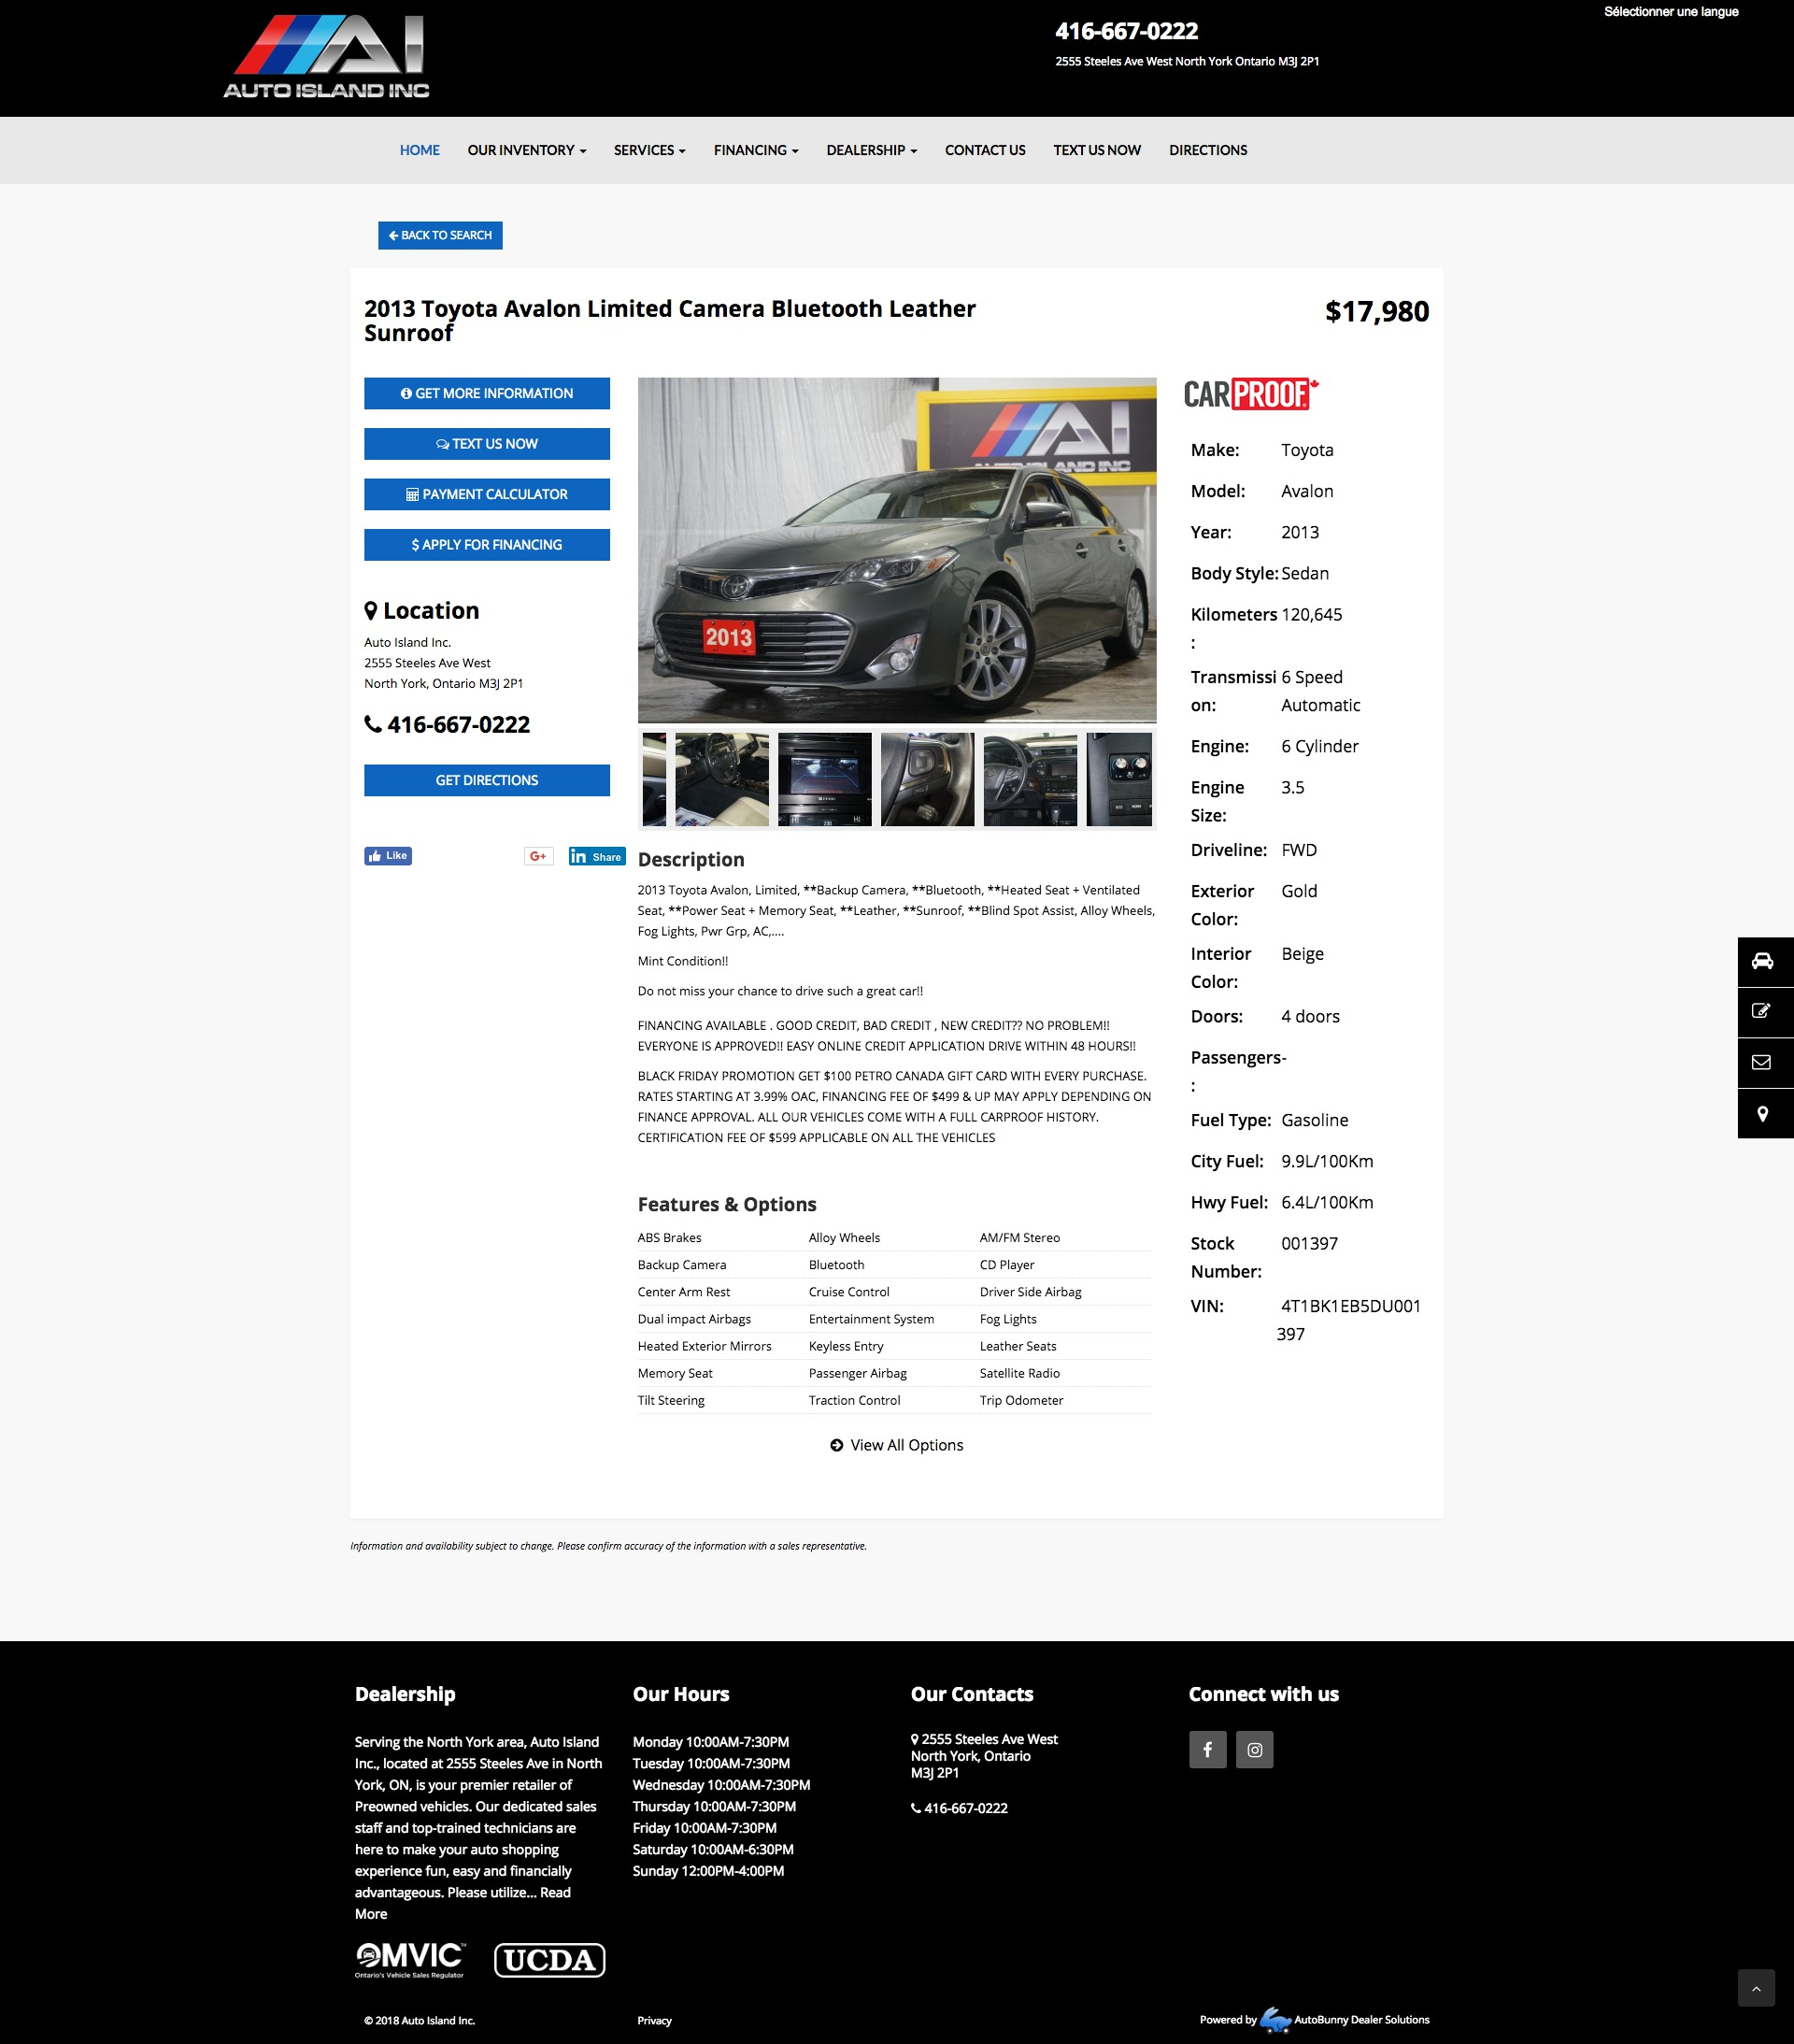car: (1137, 728, 1163, 834)
